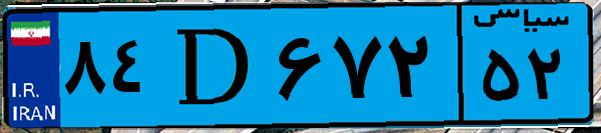2: (385, 28, 445, 110), (525, 38, 570, 115)
4: (110, 28, 158, 98)
5: (475, 38, 525, 113)
6: (270, 28, 330, 110)
7: (330, 28, 385, 110)
8: (57, 26, 110, 100)
D: (158, 12, 270, 120)
